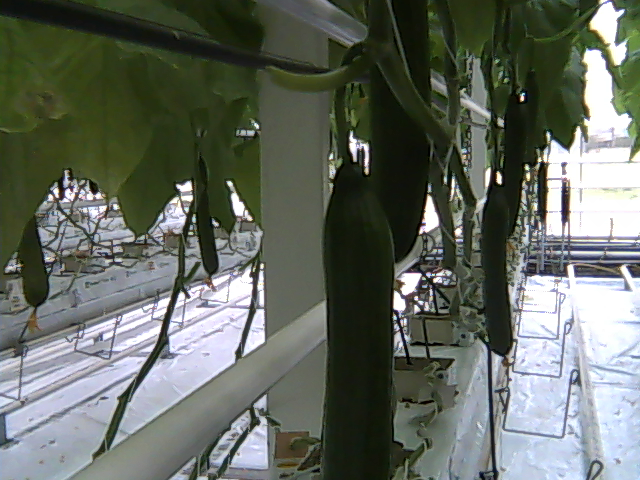concombre: (309, 147, 398, 480), (364, 1, 435, 275), (477, 178, 520, 371)
